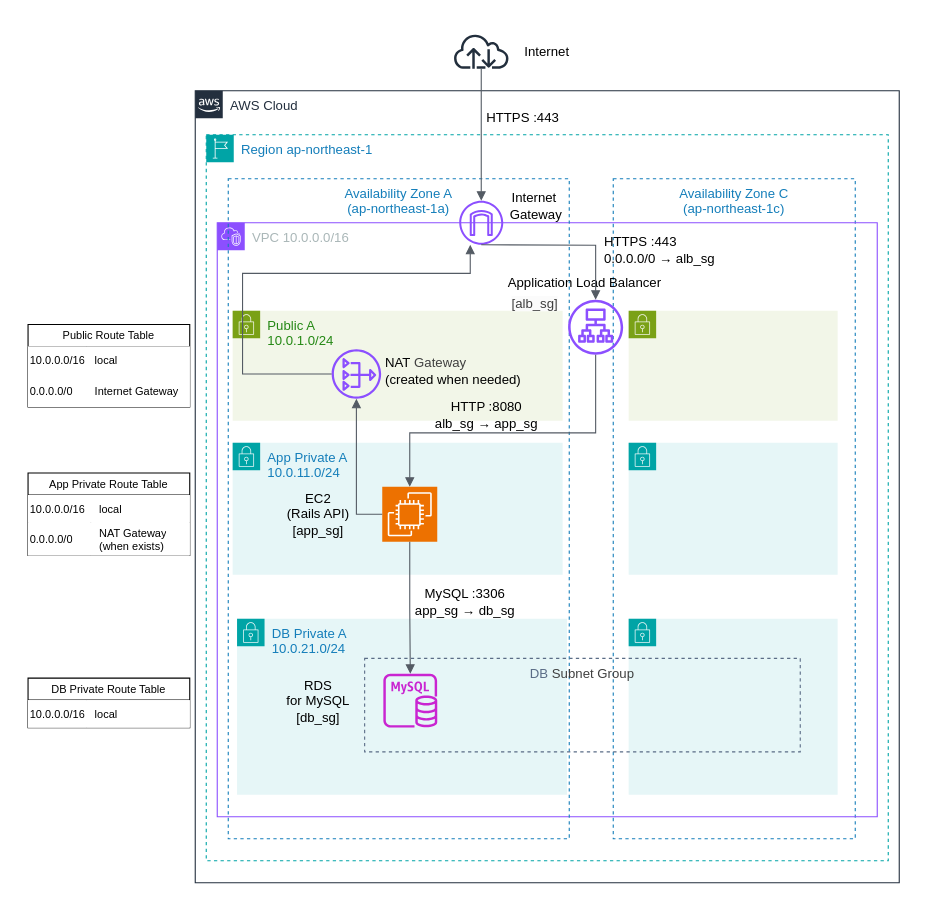
Some shapes in this 950 by 923 pixel diagram are drawn without their labels. Each missing label, with the centre of its shape:
"App Private C 10.0.12.0/24" goes at [733,508].
"DB Private C 10.0.22.0/24" goes at [733,706].
"Public C 10.0.2.0/24" goes at [733,365].
